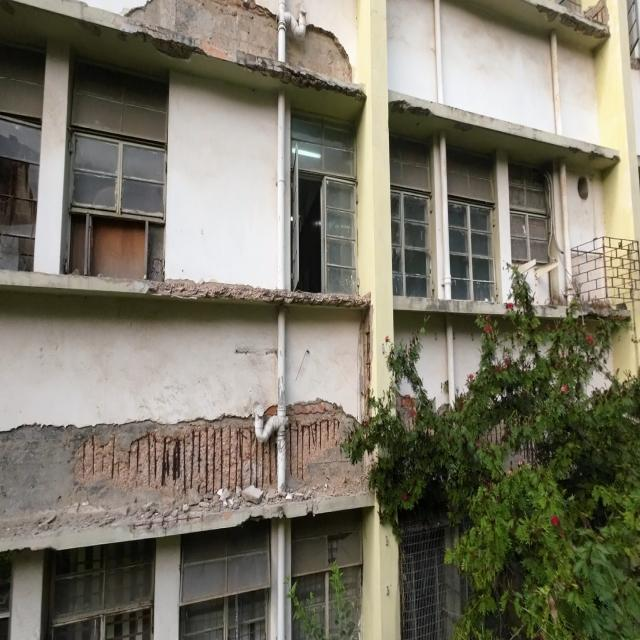Incomplete Plaster Work: (136, 0, 278, 60), (285, 23, 352, 85)
Spalling: (0, 415, 278, 513), (286, 400, 367, 499), (152, 279, 371, 309), (244, 53, 366, 103), (539, 6, 610, 43), (139, 31, 206, 58), (362, 308, 373, 417), (394, 102, 431, 113)
